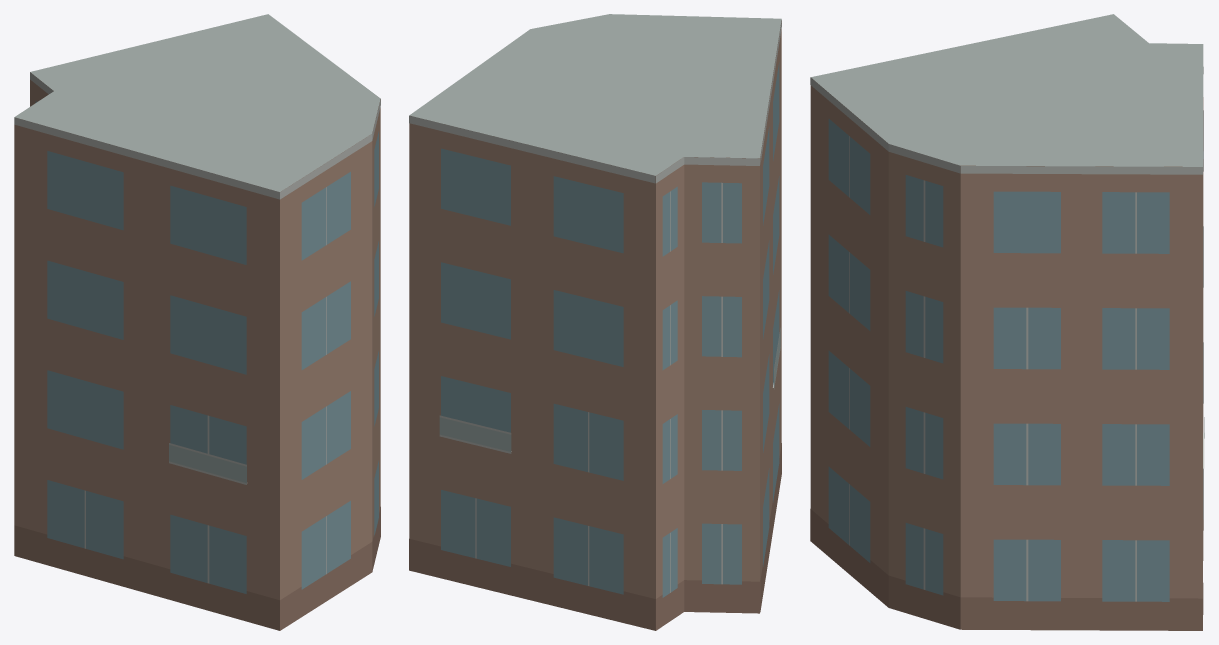
Rendered from survey-upis-32500851.glb.
3 renders of one model, left to right at view 1: azimuth 30°, elevation 25°; view 2: azimuth 150°, elevation 25°; view 3: azimuth 270°, elevation 25°, orthographic. The views are drawn at different scales.
Visible parts, largest first — view 1: survey-upis-32500851.tmp; view 2: survey-upis-32500851.tmp; view 3: survey-upis-32500851.tmp.
Boxes of the visible parts, <box> form: survey-upis-32500851.tmp: <box>14,14,380,630</box>; survey-upis-32500851.tmp: <box>409,14,781,630</box>; survey-upis-32500851.tmp: <box>810,14,1204,630</box>.
Bounding box in the file's own units: 10.18 × 14.4 × 11.08.
